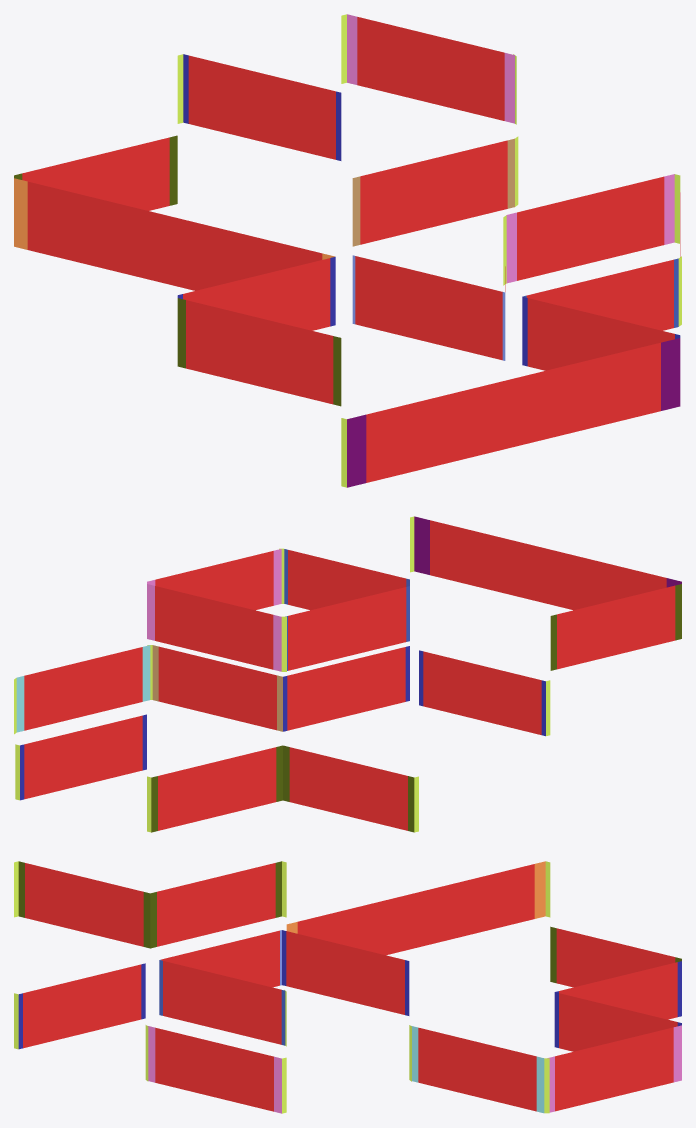
Rendered from FacadeGridTest.gltf.
The picture shows the model from 3 angles, top to bottom: view 1: azimuth 30°, elevation 25°; view 2: azimuth 150°, elevation 25°; view 3: azimuth 270°, elevation 25°; orthographic projection. The views are drawn at different scales.
Visible parts, largest first — view 1: 2732cc78-0ca7-40b0-951a-272a9c608548_mesh (×42), 45b44d4c-e03b-49d1-b5c5-e019fd432aae_mesh (×4), 09ac305d-760d-407d-a9cd-d91c06b6b704_mesh (×2), 991f0250-3382-4ebe-9704-281aaeb0610b_mesh; view 2: 2732cc78-0ca7-40b0-951a-272a9c608548_mesh (×42), 45b44d4c-e03b-49d1-b5c5-e019fd432aae_mesh (×2), fea0f24a-4f0c-43b1-89bd-7853ba9ad9f9_mesh (×2), 09ac305d-760d-407d-a9cd-d91c06b6b704_mesh; view 3: 2732cc78-0ca7-40b0-951a-272a9c608548_mesh (×42), 45b44d4c-e03b-49d1-b5c5-e019fd432aae_mesh (×3), 991f0250-3382-4ebe-9704-281aaeb0610b_mesh, fea0f24a-4f0c-43b1-89bd-7853ba9ad9f9_mesh, 8599bf82-0e82-4b2f-825a-510248c7456a_mesh.
Boxes of the visible parts, <box> form: 2732cc78-0ca7-40b0-951a-272a9c608548_mesh (×42): <box>22,17,674,482</box>; 45b44d4c-e03b-49d1-b5c5-e019fd432aae_mesh (×4): <box>347,14,674,283</box>; 09ac305d-760d-407d-a9cd-d91c06b6b704_mesh (×2): <box>347,338,680,487</box>; 991f0250-3382-4ebe-9704-281aaeb0610b_mesh: <box>14,178,27,249</box>; 2732cc78-0ca7-40b0-951a-272a9c608548_mesh (×42): <box>24,520,675,830</box>; 45b44d4c-e03b-49d1-b5c5-e019fd432aae_mesh (×2): <box>273,549,281,671</box>; fea0f24a-4f0c-43b1-89bd-7853ba9ad9f9_mesh (×2): <box>16,645,150,732</box>; 09ac305d-760d-407d-a9cd-d91c06b6b704_mesh: <box>414,516,429,574</box>; 2732cc78-0ca7-40b0-951a-272a9c608548_mesh (×42): <box>23,863,677,1111</box>; 45b44d4c-e03b-49d1-b5c5-e019fd432aae_mesh (×3): <box>148,1025,681,1113</box>; 991f0250-3382-4ebe-9704-281aaeb0610b_mesh: <box>534,861,545,918</box>; fea0f24a-4f0c-43b1-89bd-7853ba9ad9f9_mesh: <box>536,1056,544,1113</box>; 8599bf82-0e82-4b2f-825a-510248c7456a_mesh: <box>143,892,150,948</box>.
Size of the model in its own units: 30.69 by 4 by 43.9.
